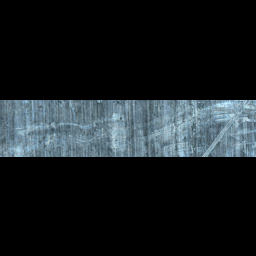d: (198, 102, 254, 156), (12, 122, 126, 148), (139, 116, 197, 156), (102, 109, 129, 150)
